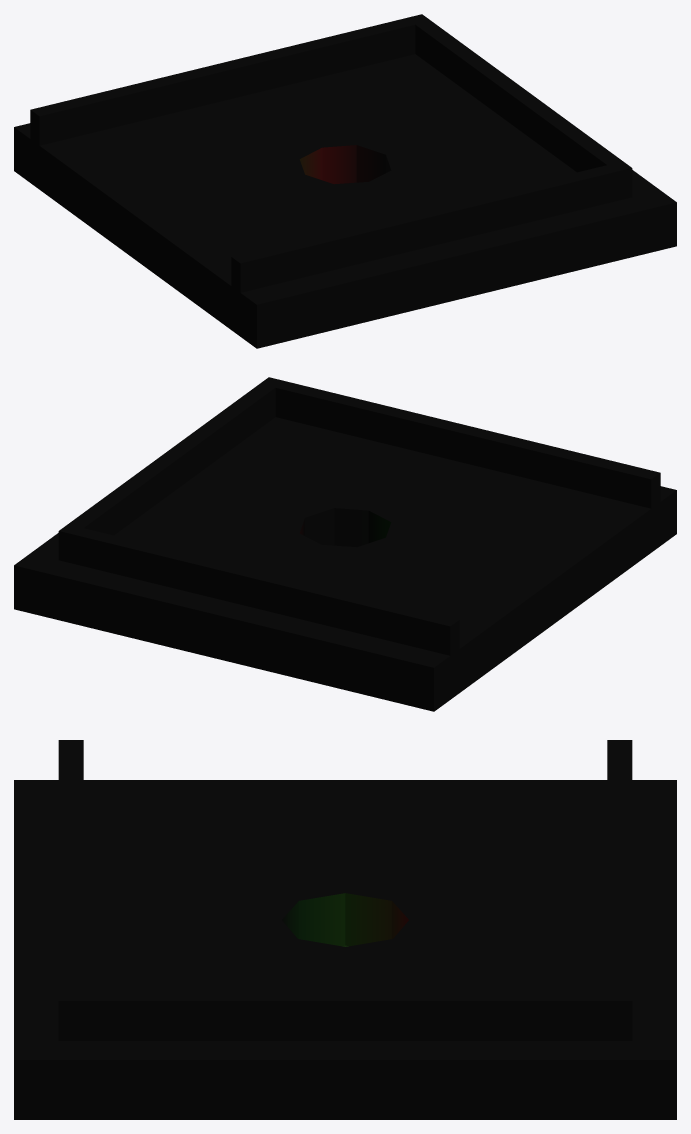
File: Rect Hole.fbx
The picture shows the model from 3 angles, top to bottom: view 1: azimuth 30°, elevation 25°; view 2: azimuth 150°, elevation 25°; view 3: azimuth 270°, elevation 25°; orthographic projection. The views are drawn at different scales.
Parts seen in each view (by area): view 1: Box024.001; view 2: Box024.001; view 3: Box024.001.
Boxes of the visible parts, left/top/right/bottom form: Box024.001: left=14, top=14, right=676, bottom=348; Box024.001: left=14, top=377, right=676, bottom=711; Box024.001: left=14, top=740, right=676, bottom=1119.
Size of the model in its own units: 50.47 by 8.42 by 50.54.
